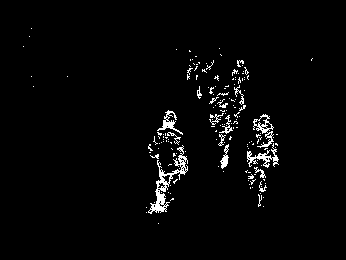person: (146, 109, 188, 214), (247, 114, 280, 208), (210, 86, 239, 169), (232, 59, 250, 104)
